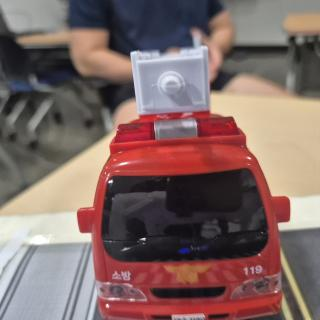Fire_truck: (77, 47, 290, 320)
